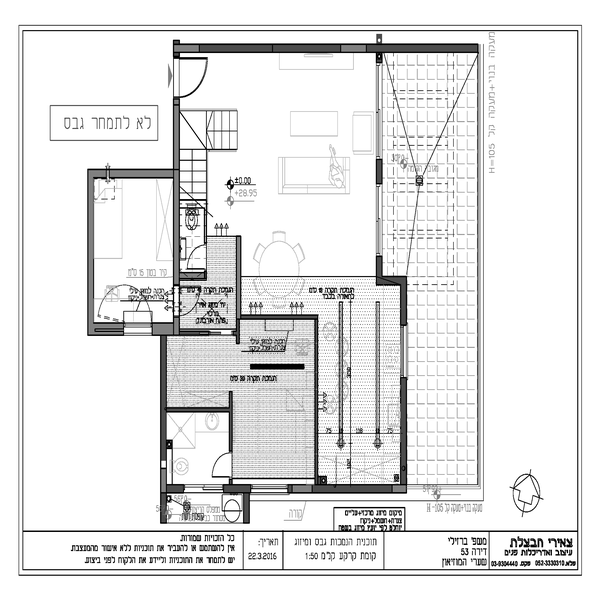door: (171, 56, 214, 107), (177, 280, 206, 325), (184, 247, 212, 271), (210, 454, 235, 480)
room: (165, 34, 388, 290), (314, 278, 411, 494), (220, 314, 324, 494), (84, 165, 188, 337), (161, 325, 235, 501)
wall: (177, 42, 383, 64), (167, 101, 187, 290), (82, 162, 103, 338), (311, 315, 328, 490), (287, 480, 397, 501), (77, 164, 180, 185), (158, 336, 169, 523), (230, 230, 244, 341), (397, 384, 410, 497), (159, 402, 230, 419), (248, 355, 306, 374), (224, 389, 239, 454), (372, 271, 412, 291), (238, 314, 316, 323), (372, 156, 397, 182), (151, 319, 181, 336)
window: (370, 182, 389, 256), (374, 66, 389, 156), (395, 324, 414, 377), (252, 480, 288, 500), (179, 478, 220, 494)
